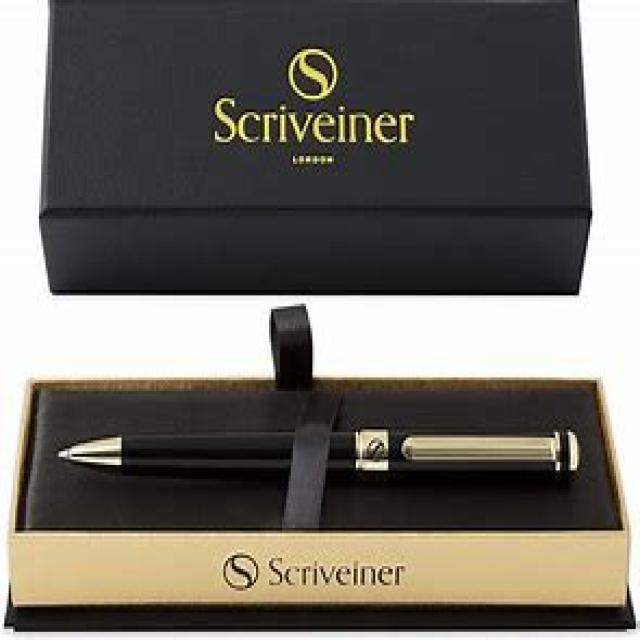pen: (50, 434, 578, 485)
